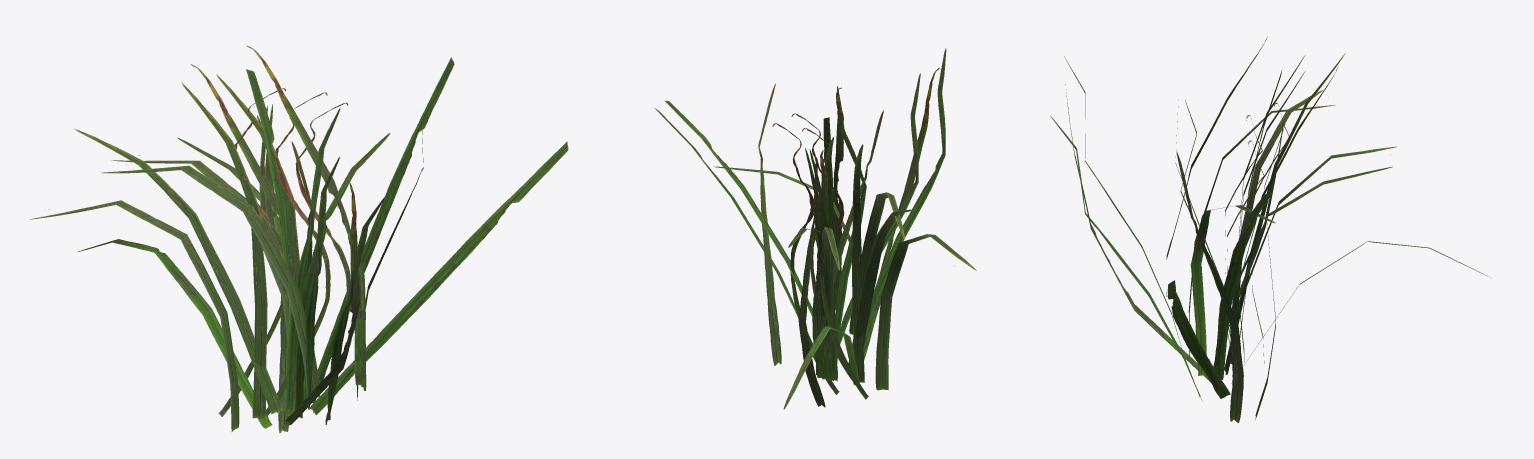
Rendered from grasses.fbx.
3 renders of one model, left to right at view 1: azimuth 30°, elevation 25°; view 2: azimuth 150°, elevation 25°; view 3: azimuth 270°, elevation 25°, orthographic. The views are drawn at different scales.
Visible parts, largest first — view 1: grass_bunch1, grass_bunch3, grass_bunch4, grass_bunch2, grass_blade8, grass_blade5, grass_blade7, grass_blade1, grass_blade6, grass_blade3, grass_blade9, grass_blade4; view 2: grass_bunch3, grass_bunch1, grass_bunch2, grass_bunch4, grass_blade8, grass_blade3, grass_blade2, grass_blade7, grass_blade4, grass_blade1, grass_blade5, grass_blade9; view 3: grass_bunch3, grass_bunch1, grass_bunch2, grass_bunch4, grass_blade3, grass_blade9.
Part boxes in pixels (x1,y1,x2,y2): grass_bunch1: [101, 45, 454, 406]; grass_bunch3: [29, 83, 423, 431]; grass_bunch4: [78, 105, 568, 428]; grass_bunch2: [74, 102, 390, 433]; grass_blade8: [285, 108, 340, 416]; grass_blade5: [216, 74, 299, 282]; grass_blade7: [246, 69, 289, 308]; grass_blade1: [260, 92, 330, 418]; grass_blade6: [190, 64, 310, 409]; grass_blade3: [111, 155, 288, 338]; grass_blade9: [177, 137, 291, 415]; grass_blade4: [290, 141, 313, 414]; grass_bunch3: [758, 73, 976, 399]; grass_bunch1: [665, 48, 946, 379]; grass_bunch2: [713, 123, 917, 407]; grass_bunch4: [654, 68, 939, 409]; grass_blade8: [835, 86, 866, 381]; grass_blade3: [821, 227, 839, 361]; grass_blade2: [809, 149, 833, 380]; grass_blade7: [823, 117, 833, 362]; grass_blade4: [833, 110, 883, 288]; grass_blade1: [791, 113, 854, 383]; grass_blade5: [825, 137, 835, 375]; grass_blade9: [788, 228, 837, 380]; grass_bunch3: [1050, 55, 1322, 422]; grass_bunch1: [1064, 36, 1335, 390]; grass_bunch2: [1190, 53, 1345, 419]; grass_bunch4: [1065, 84, 1487, 398]; grass_blade3: [1239, 146, 1397, 337]; grass_blade9: [1236, 166, 1392, 285].
Bounding box in the file's own units: 1.22 × 0.9568 × 1.08.
